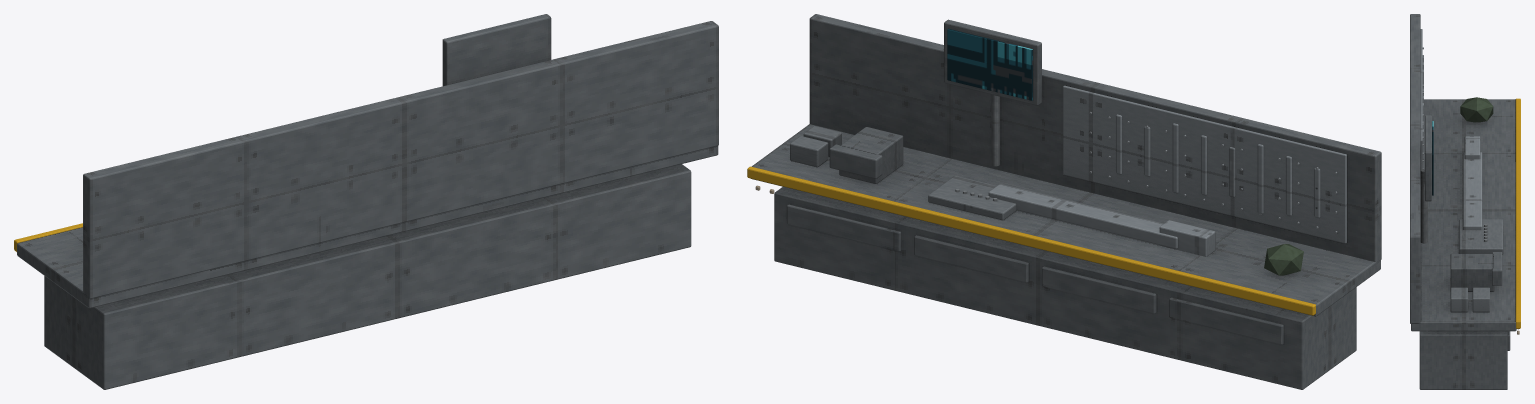
The model's file is base_armory_bench.glb.
3 renders of one model, left to right at view 1: azimuth 30°, elevation 25°; view 2: azimuth 150°, elevation 25°; view 3: azimuth 270°, elevation 25°, orthographic. The views are drawn at different scales.
Visible parts, largest first — view 1: base_armory_bench; view 2: base_armory_bench; view 3: base_armory_bench.
Part boxes in pixels (bbox=[...]): base_armory_bench: bbox=[14, 14, 718, 389]; base_armory_bench: bbox=[747, 14, 1381, 389]; base_armory_bench: bbox=[1410, 14, 1520, 389].
Bounding box in the file's own units: 6 × 2.38 × 1.26.
Materials: 8 (8 with a texture image).
